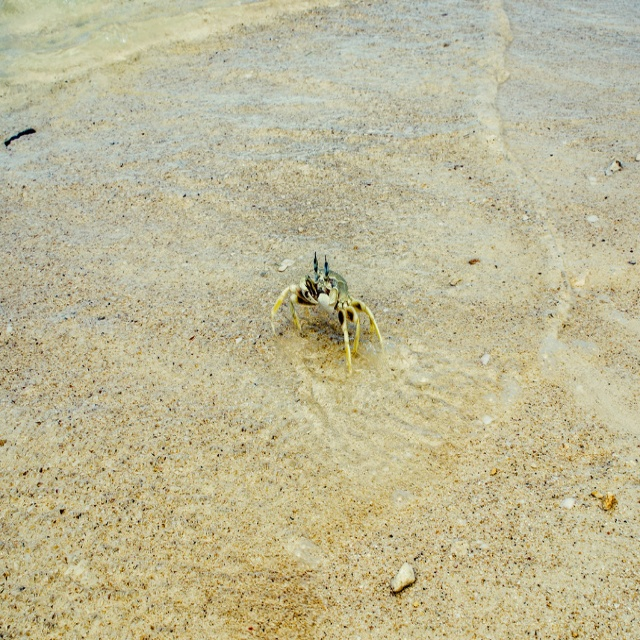Crab: (272, 250, 382, 379)
